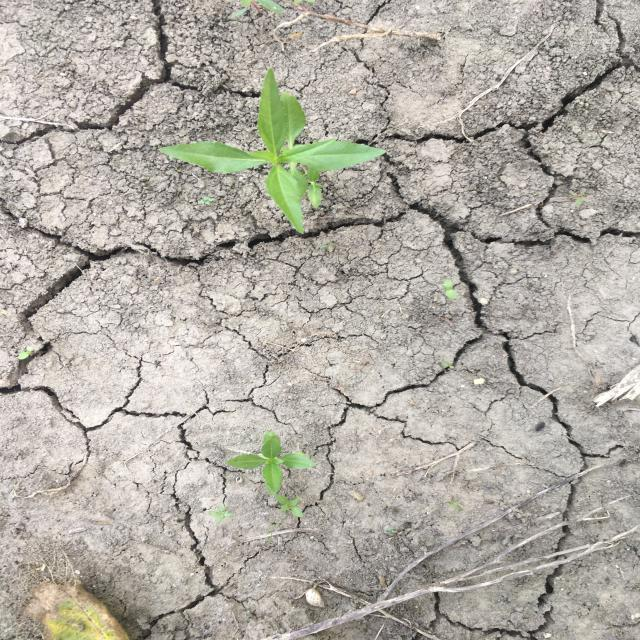Eclipta: (156, 68, 388, 236), (223, 429, 318, 496)
